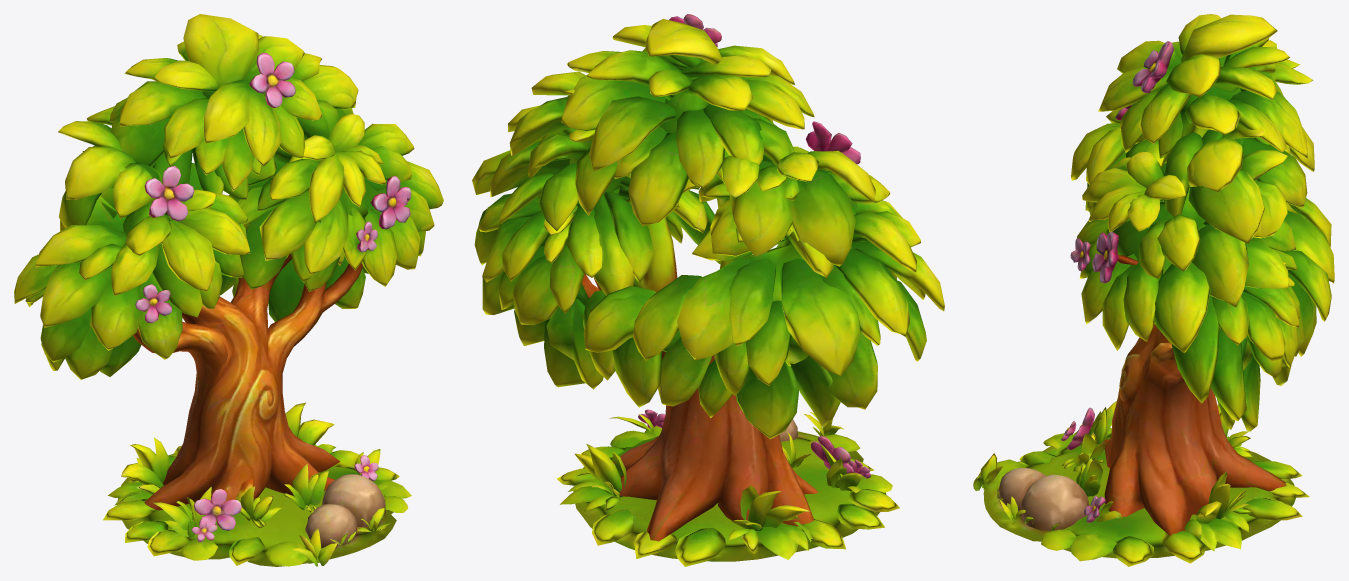
The model's file is tree_flowering.glb.
3 views of the same model, side by side, from view 1: azimuth 30°, elevation 25°; view 2: azimuth 150°, elevation 25°; view 3: azimuth 270°, elevation 25° (orthographic). The views are drawn at different scales.
Parts seen in each view (by area): view 1: geometry_0; view 2: geometry_0; view 3: geometry_0.
Part boxes in pixels (x1=…): geometry_0: x1=14, y1=14, x2=443, y2=566; geometry_0: x1=472, y1=14, x2=944, y2=566; geometry_0: x1=973, y1=14, x2=1334, y2=566.
Bounding box in the file's own units: 0.9111 × 0.9546 × 0.6543.
1 material, 1 textured.
